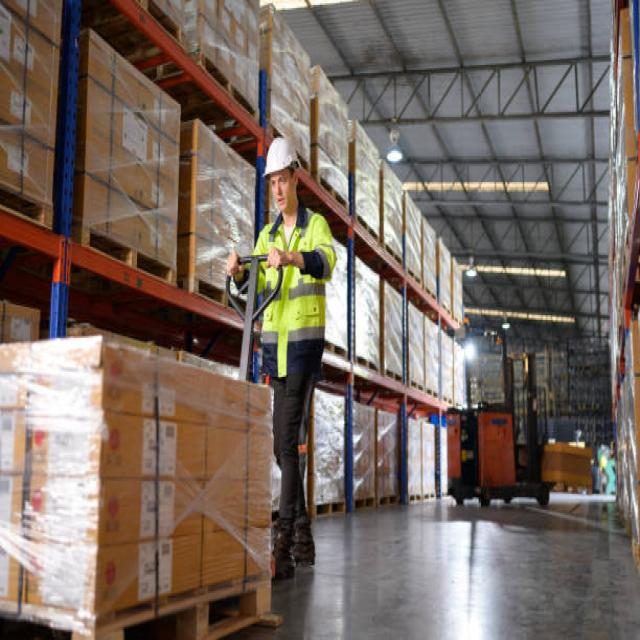Wooden-Pallets: (99, 571, 286, 640), (83, 229, 177, 298)
